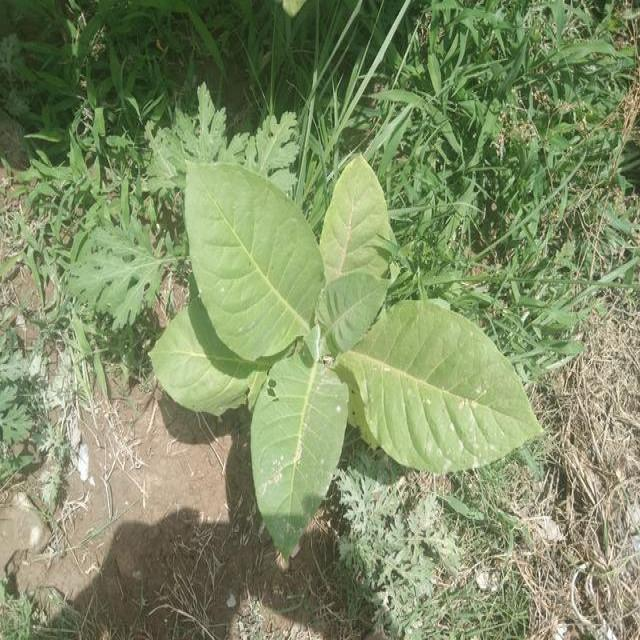crop: (162, 165, 544, 524)
